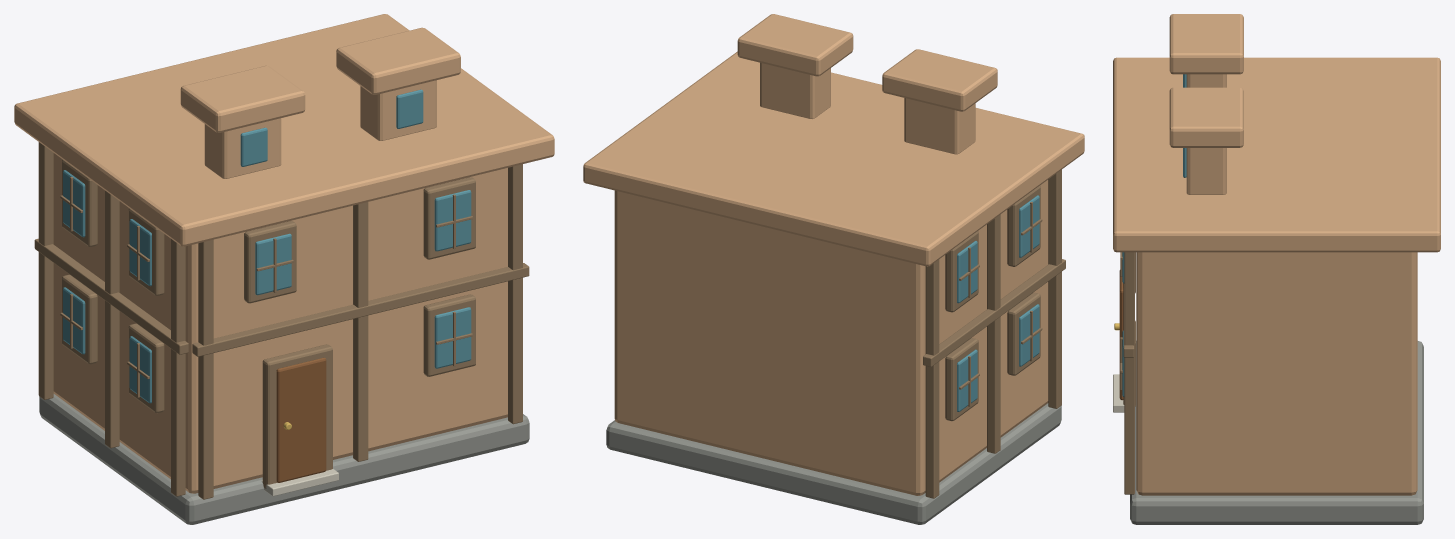
The model's file is arid-townhouse-0.glb.
The picture shows the model from 3 angles, left to right: view 1: azimuth 30°, elevation 25°; view 2: azimuth 150°, elevation 25°; view 3: azimuth 270°, elevation 25°; orthographic projection. The views are drawn at different scales.
Visible parts, largest first — view 1: Adobe cream, Palm beams, Foundation stone, Blue glass, Door oak, Cut limestone; view 2: Adobe cream, Palm beams, Foundation stone, Blue glass; view 3: Adobe cream, Foundation stone, Palm beams, Door oak, Blue glass.
Boxes of the visible parts, <box> form: Adobe cream: <box>14,14,554,493</box>; Palm beams: <box>34,142,529,499</box>; Foundation stone: <box>39,394,529,524</box>; Blue glass: <box>63,89,471,403</box>; Door oak: <box>276,357,326,482</box>; Cut limestone: <box>261,469,338,496</box>; Adobe cream: <box>583,14,1084,495</box>; Palm beams: <box>923,169,1065,498</box>; Foundation stone: <box>606,403,1061,524</box>; Blue glass: <box>957,195,1039,411</box>; Adobe cream: <box>1113,14,1440,495</box>; Foundation stone: <box>1130,341,1423,524</box>; Palm beams: <box>1120,252,1135,494</box>; Door oak: <box>1119,270,1123,400</box>; Blue glass: <box>1122,74,1186,396</box>.
Bounding box in the file's own units: 3.94 × 3.91 × 3.09.
